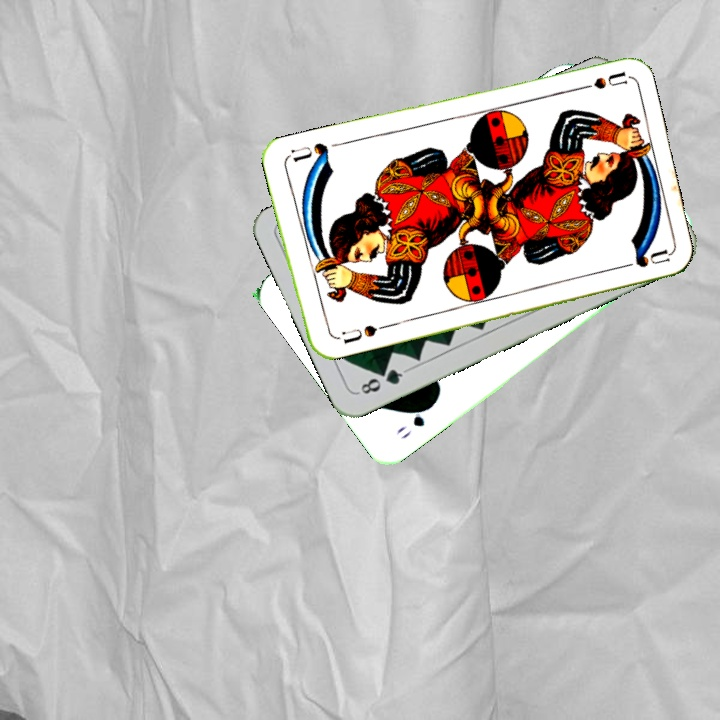G8: (356, 365, 410, 397)
GO: (392, 400, 437, 442)
SU: (568, 67, 628, 95), (329, 321, 388, 347)
